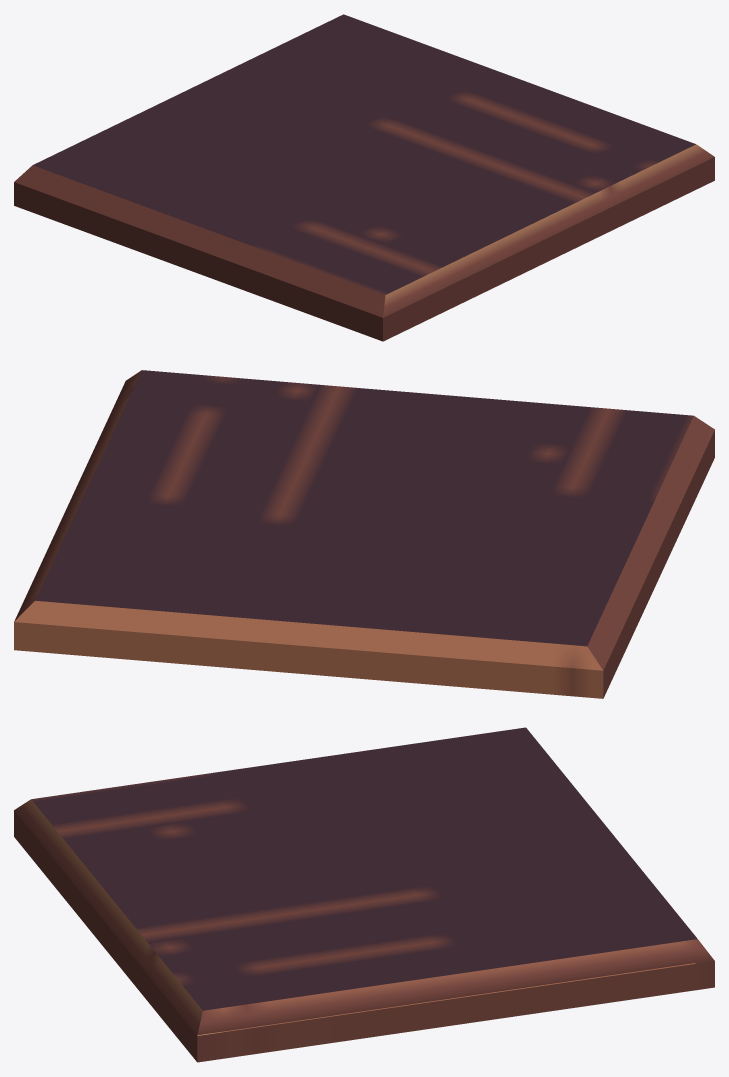
The model's file is MadeiraDeCorte.fbx.
3 views of the same model, one above another, from view 1: azimuth 30°, elevation 25°; view 2: azimuth 150°, elevation 25°; view 3: azimuth 270°, elevation 25° (orthographic). The views are drawn at different scales.
Visible parts, largest first — view 1: MadeiraDeCorte; view 2: MadeiraDeCorte; view 3: MadeiraDeCorte.
Part boxes in pixels (bbox=[...]): MadeiraDeCorte: bbox=[14, 14, 714, 341]; MadeiraDeCorte: bbox=[14, 370, 714, 698]; MadeiraDeCorte: bbox=[14, 727, 714, 1062].
Size of the model in its own units: 83.76 by 82.47 by 5.58.
